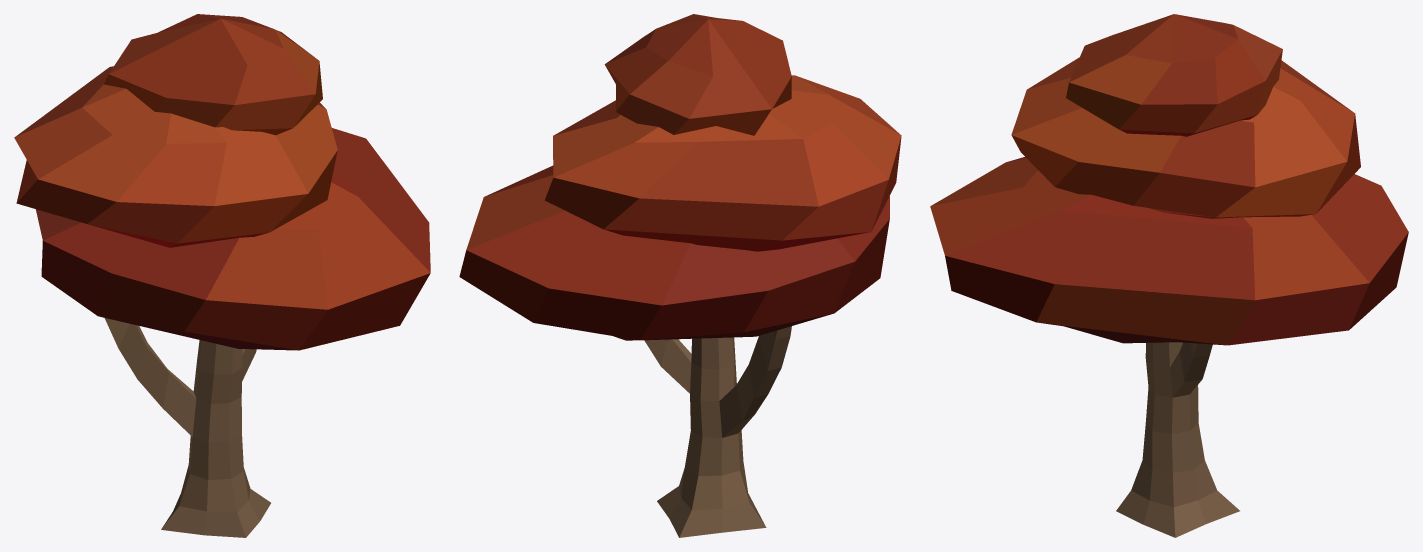
The model's file is Autumn_Tree_3.glb.
3 views of the same model, side by side, from view 1: azimuth 30°, elevation 25°; view 2: azimuth 150°, elevation 25°; view 3: azimuth 270°, elevation 25° (orthographic).
Visible parts, largest first — view 1: Autumn_Tree_3; view 2: Autumn_Tree_3; view 3: Autumn_Tree_3.
Part boxes in pixels (x1,y1,x2,y2): Autumn_Tree_3: (14,14,430,537); Autumn_Tree_3: (459,14,901,537); Autumn_Tree_3: (930,14,1408,537).
Bounding box in the file's own units: 3.49 × 4.5 × 3.9.
